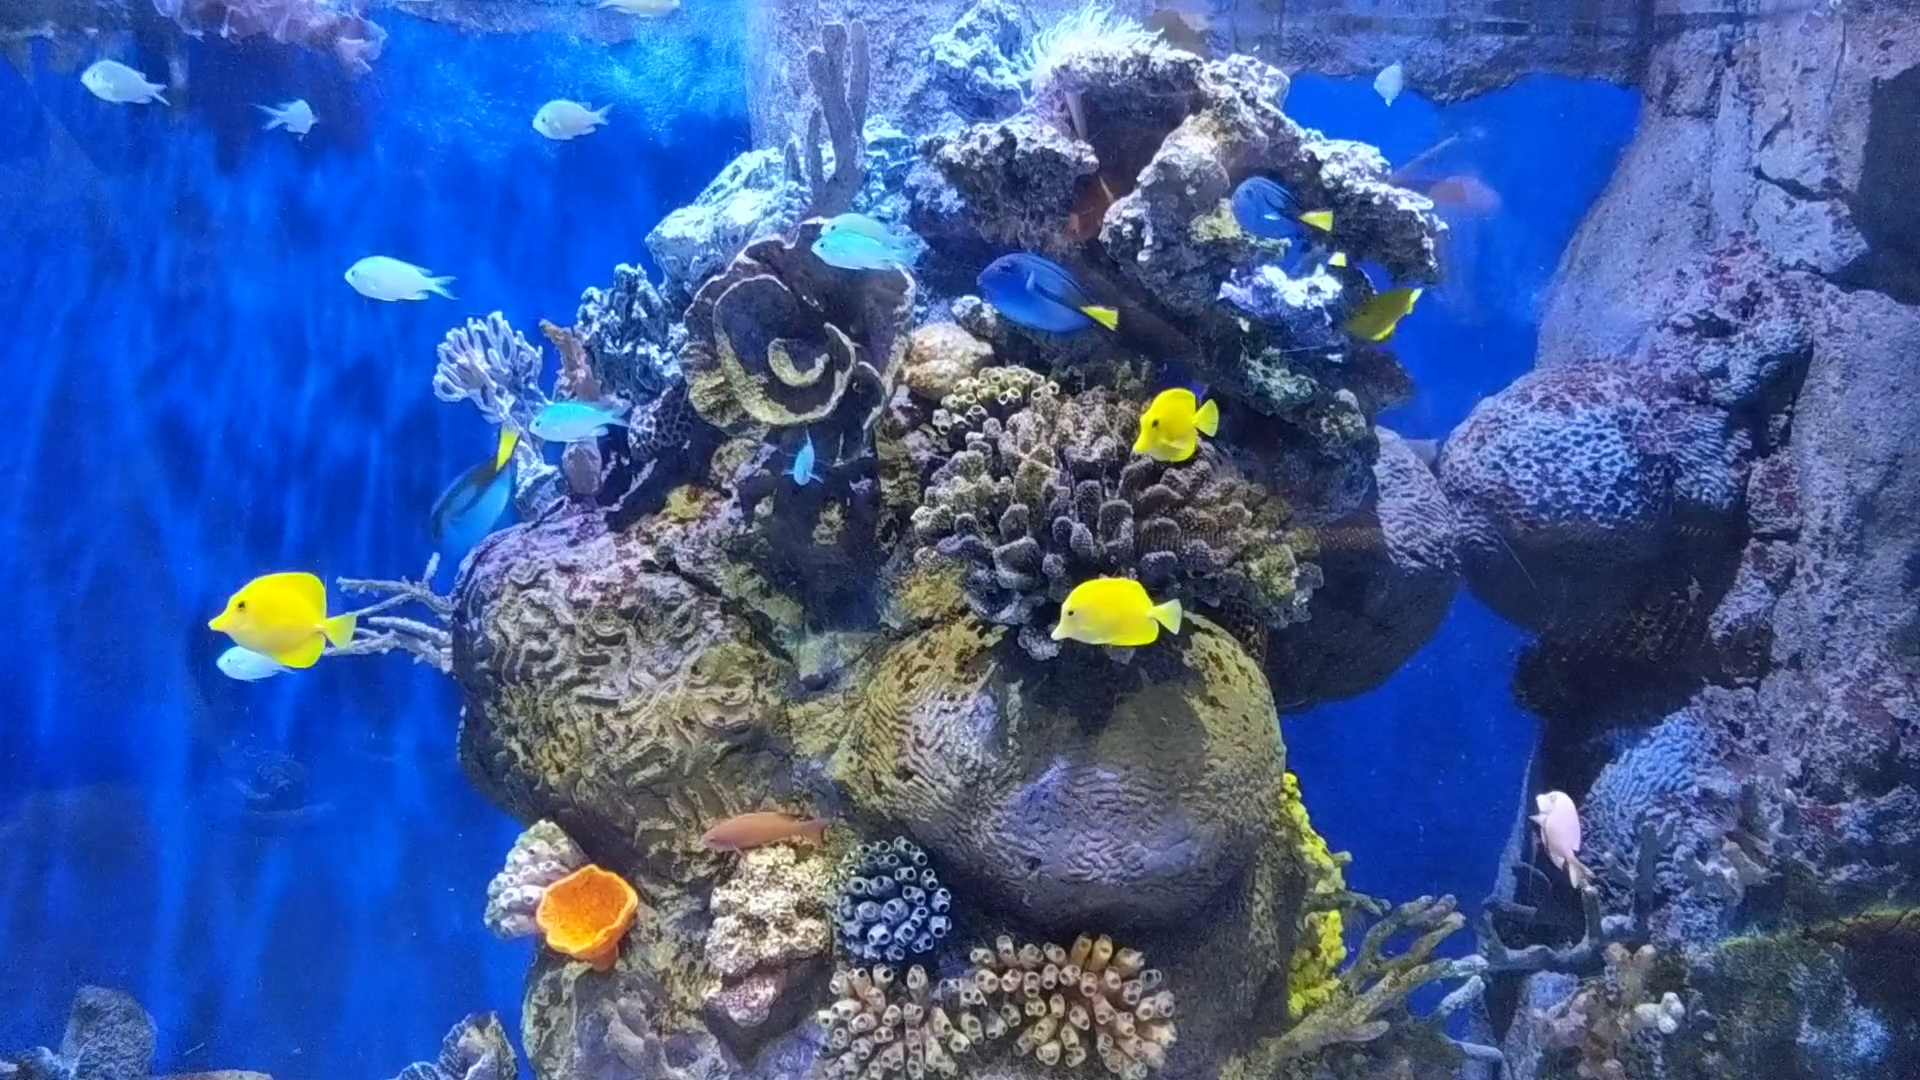blue tang surgeonfish: (406, 426, 534, 558), (978, 241, 1129, 349), (1221, 164, 1346, 266)
damselfish: (326, 243, 476, 316), (512, 382, 630, 456), (516, 79, 616, 153), (803, 218, 919, 276), (69, 55, 179, 115), (252, 87, 326, 149), (775, 426, 827, 487), (1371, 63, 1408, 105)
pink fish: (1520, 771, 1611, 919)
saddle butterfly fish: (194, 560, 367, 670), (1047, 562, 1195, 654), (1116, 382, 1238, 469)
